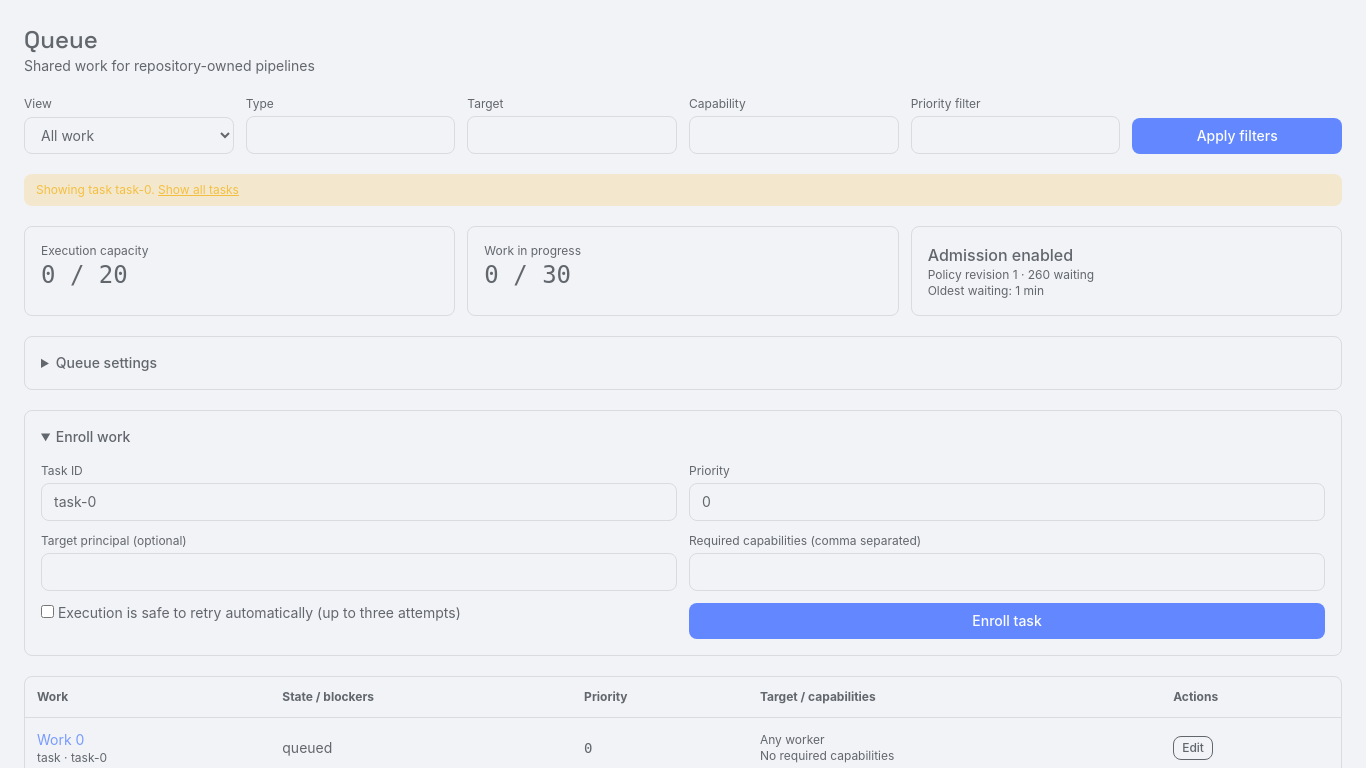
Test: enrolls explicitly through the shared queue operation without launching
Expected: the link "Work 0" is shown, left=37, top=731, right=84, bottom=748
Step 1. Type "coding, linux" into the field labelled "Required capabilities (comma separated)" → (1007, 572), box left=689, top=553, right=1325, bottom=591
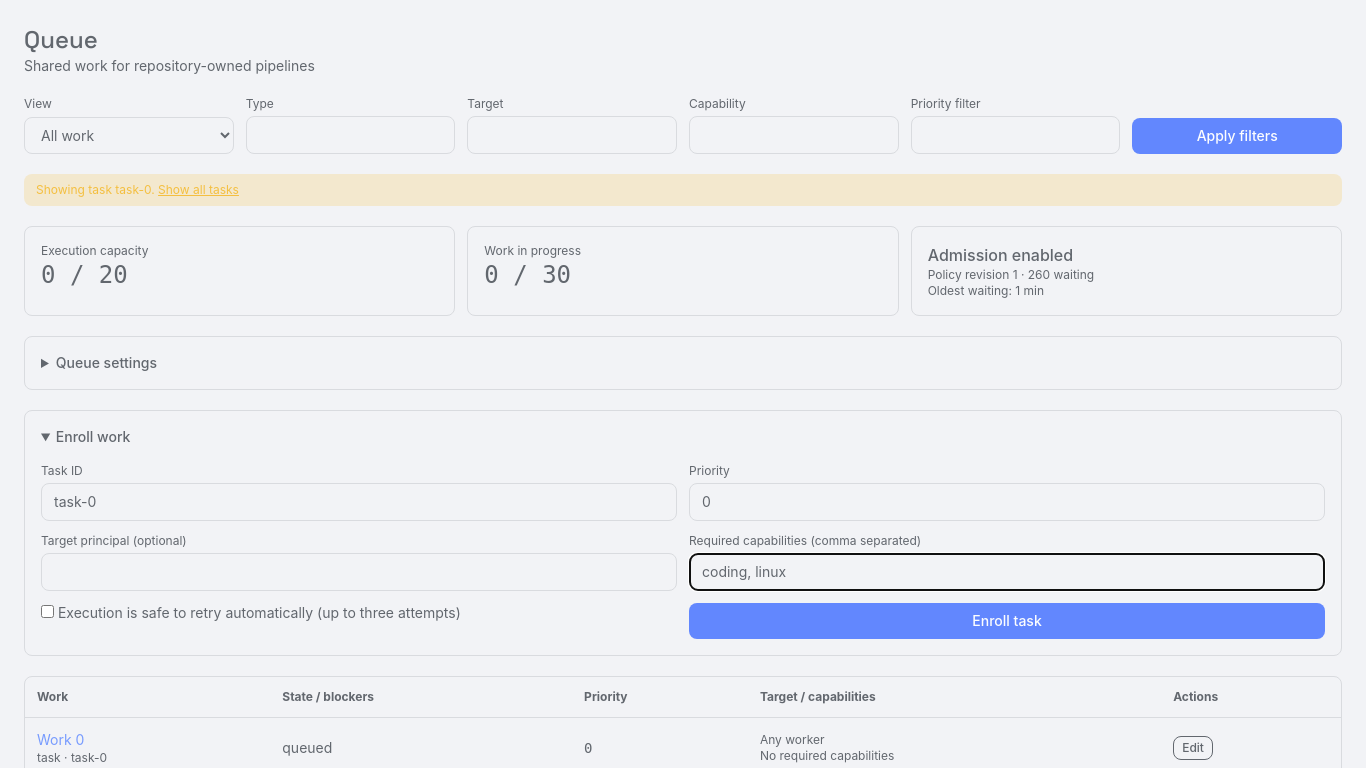
Step 2. Type "worker-one" into the field labelled "Target principal (optional)" → (359, 572), box left=41, top=553, right=677, bottom=591
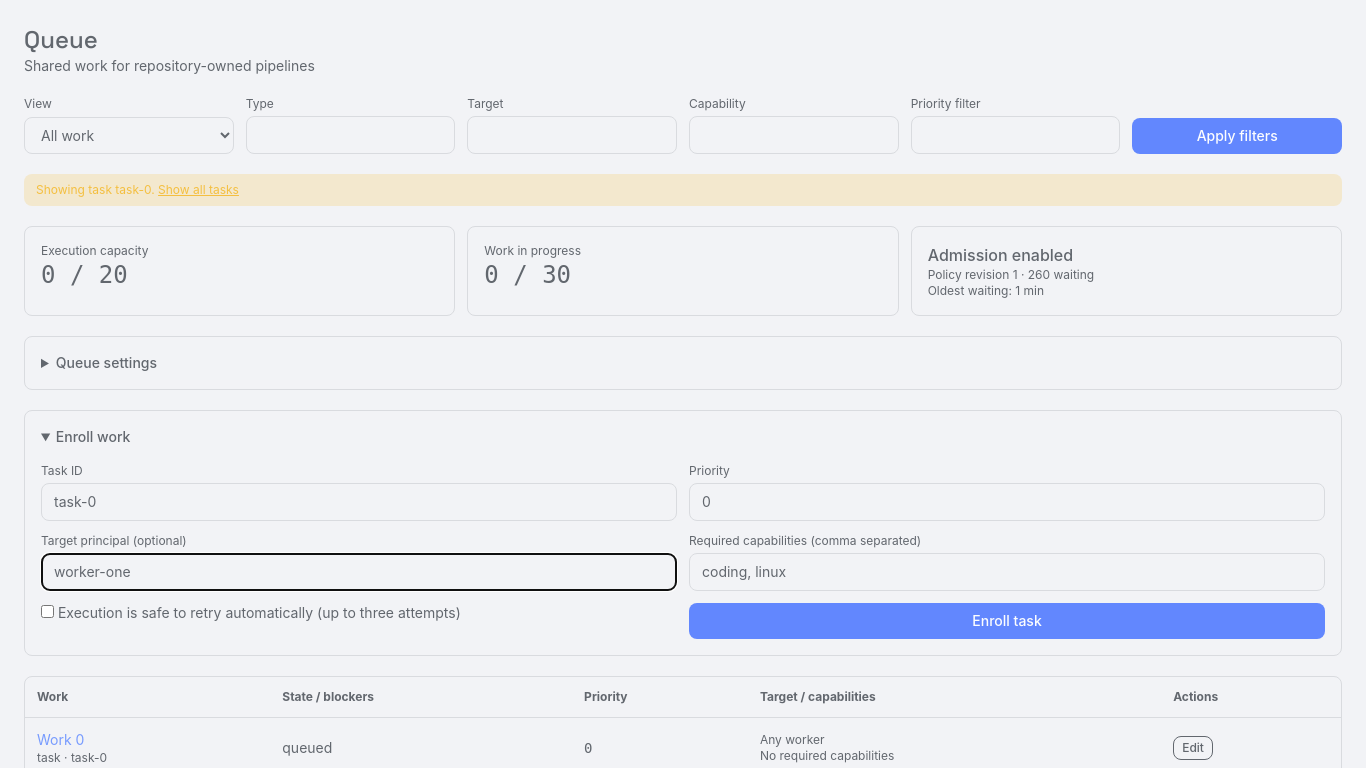
Step 3. Click the button "Enroll task" → (1007, 621), box left=689, top=603, right=1325, bottom=639
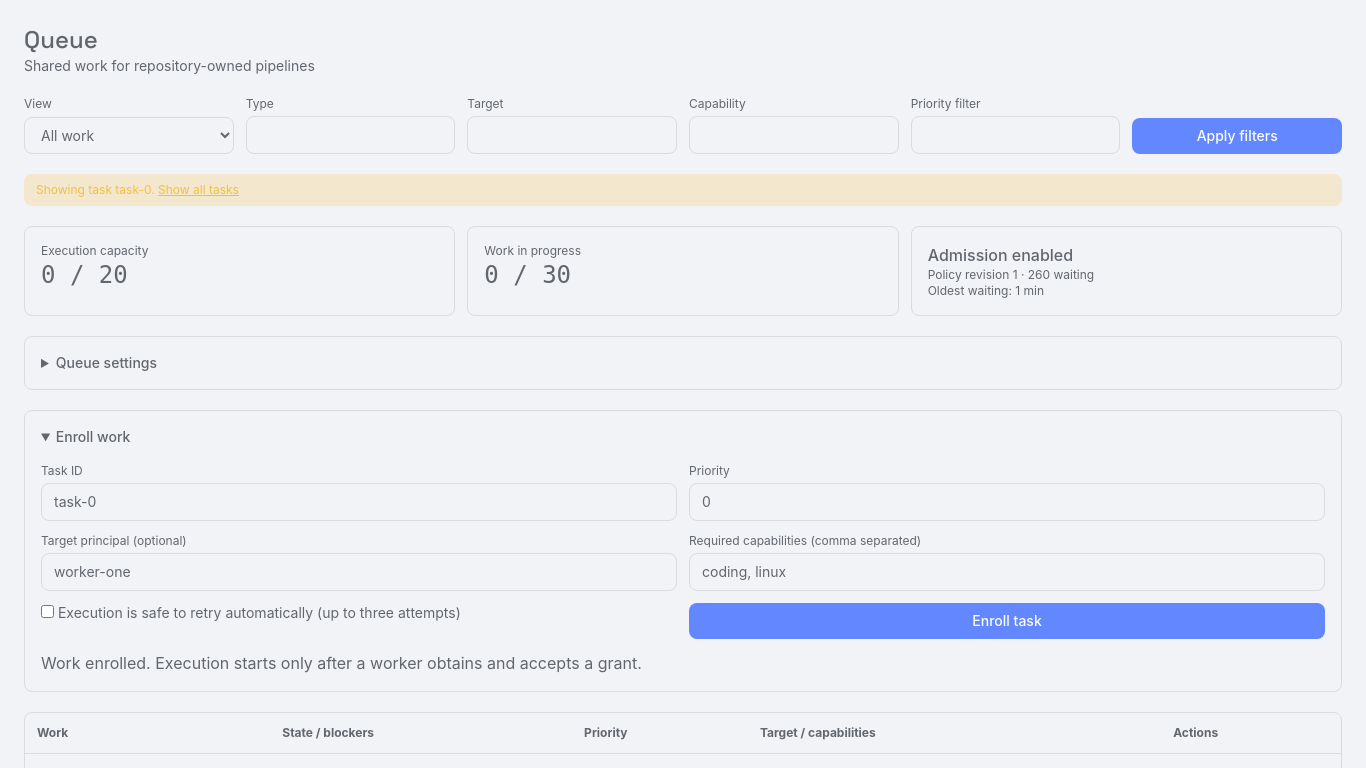
Result: the text "Work enrolled" is shown at left=41, top=653, right=642, bottom=673
